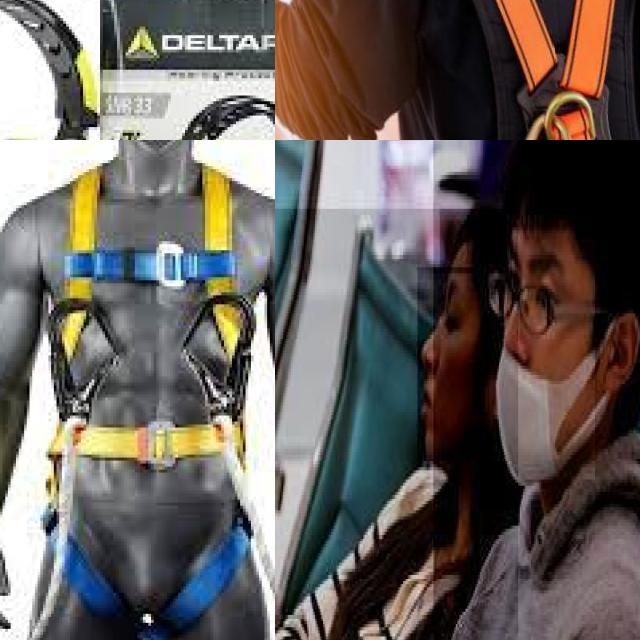Harness: (37, 156, 269, 637), (474, 0, 623, 140)
No_Ear-Protection: (597, 296, 640, 419)
face_mask: (489, 230, 595, 480)
face_nomask: (418, 267, 484, 461)
glasses: (486, 262, 555, 336)
head_nohelmet: (507, 140, 640, 230), (440, 209, 513, 276)
person: (275, 209, 519, 640), (433, 140, 640, 640)
